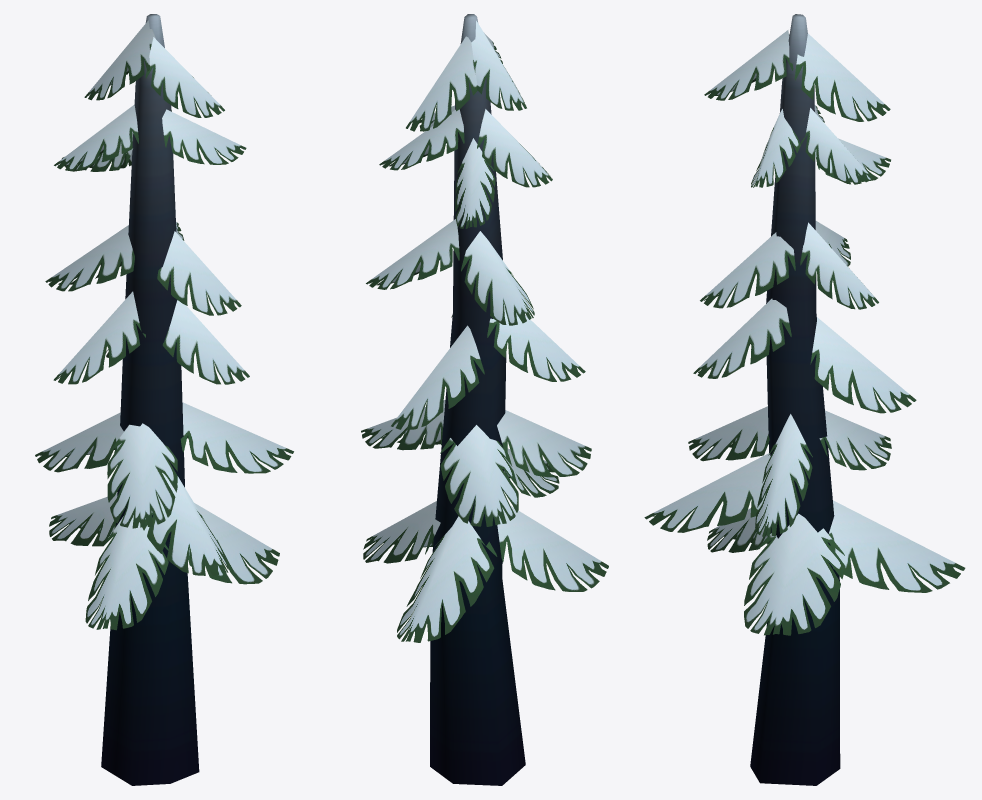
Rendered from tree-02a.glb.
The picture shows the model from 3 angles, left to right: view 1: azimuth 30°, elevation 25°; view 2: azimuth 150°, elevation 25°; view 3: azimuth 270°, elevation 25°; orthographic projection.
Parts seen in each view (by area): view 1: Tree 02A, Leaf 01 (8), Leaf 01 (15), Leaf 01 (1), Leaf 01, Leaf 01 (9), Leaf 01 (18), Leaf 01 (3), Leaf 01 (7), Leaf 01 (5), Leaf 01 (6), Leaf 01 (16) (+5 smaller); view 2: Tree 02A, Leaf 01 (2), Leaf 01 (16), Leaf 01 (8), Leaf 01 (10), Leaf 01 (15), Leaf 01 (6), Leaf 01 (3), Leaf 01 (19), Leaf 01 (4), Leaf 01 (13), Leaf 01 (7) (+5 smaller); view 3: Tree 02A, Leaf 01 (7), Leaf 01 (2), Leaf 01 (10), Leaf 01, Leaf 01 (1), Leaf 01 (19), Leaf 01 (9), Leaf 01 (18), Leaf 01 (4), Leaf 01 (15), Leaf 01 (16) (+6 smaller).
Part boxes in pixels (x1,y1,x2,y2): Tree 02A: (101,14,199,785); Leaf 01 (8): (85,515,168,630); Leaf 01 (15): (107,423,177,528); Leaf 01 (1): (180,402,293,473); Leaf 01: (139,472,228,575); Leaf 01 (9): (162,300,249,384); Leaf 01 (18): (157,231,241,315); Leaf 01 (3): (53,291,145,384); Leaf 01 (7): (188,503,279,584); Leaf 01 (5): (145,37,224,117); Leaf 01 (6): (45,225,134,291); Leaf 01 (16): (35,412,123,472); Tree 02A: (430,14,525,785); Leaf 01 (2): (397,516,497,642); Leaf 01 (16): (440,425,518,526); Leaf 01 (8): (497,506,608,591); Leaf 01 (10): (391,325,484,429); Leaf 01 (15): (497,410,591,477); Leaf 01 (6): (461,231,534,325); Leaf 01 (3): (487,302,585,381); Leaf 01 (19): (406,36,477,131); Leaf 01 (4): (366,219,459,289); Leaf 01 (13): (477,109,552,187); Leaf 01 (7): (363,501,440,563); Tree 02A: (750,14,840,785); Leaf 01 (7): (744,513,845,635); Leaf 01 (2): (827,500,965,592); Leaf 01 (10): (810,317,916,413); Leaf 01: (644,453,770,532); Leaf 01 (1): (755,414,812,536); Leaf 01 (19): (794,33,890,121); Leaf 01 (9): (693,298,791,378); Leaf 01 (18): (700,232,795,308); Leaf 01 (4): (800,222,878,309); Leaf 01 (15): (688,406,769,461); Leaf 01 (16): (819,410,891,470).
Bounding box in the file's own units: 2.37 × 6.84 × 2.68.
Materials: 1 (1 with a texture image).
